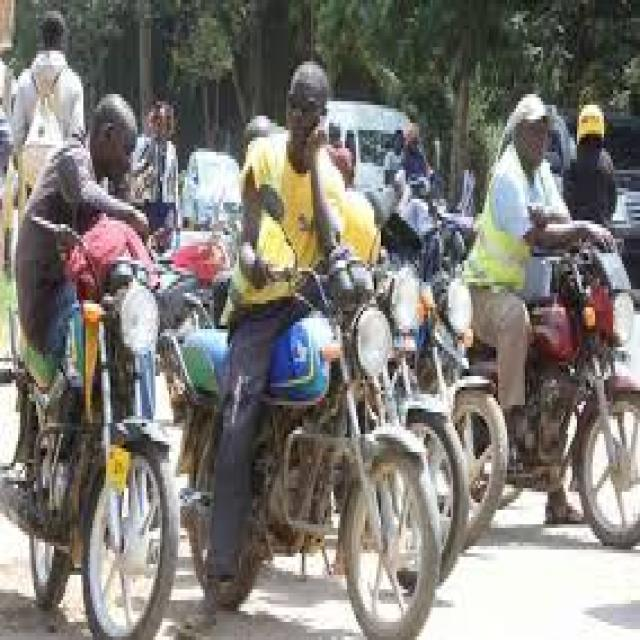bodaboda: (170, 169, 447, 640), (4, 146, 218, 640)
